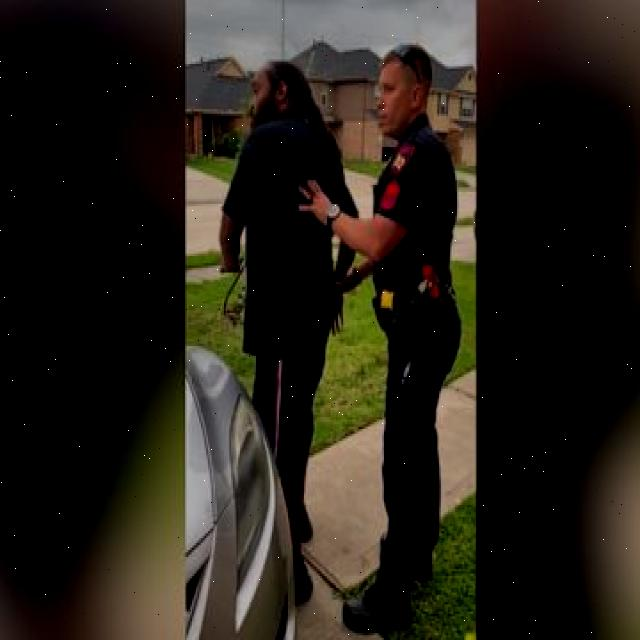police: (302, 12, 470, 640)
